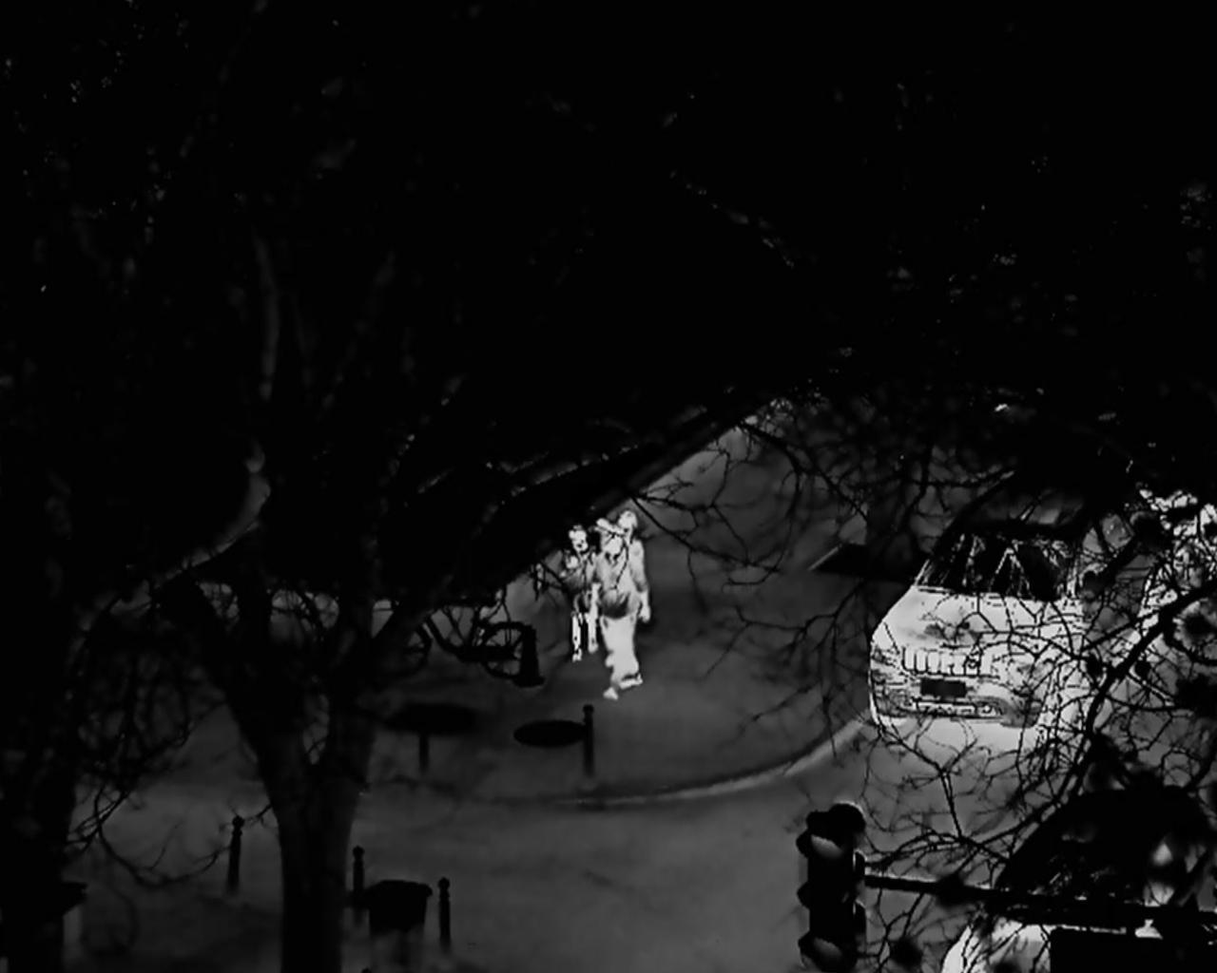person: (590, 532, 651, 700)
